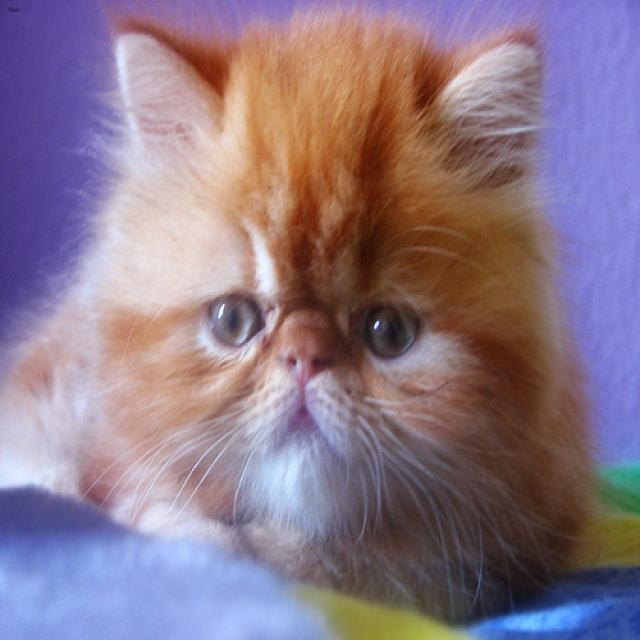Persian: (77, 4, 551, 557)
